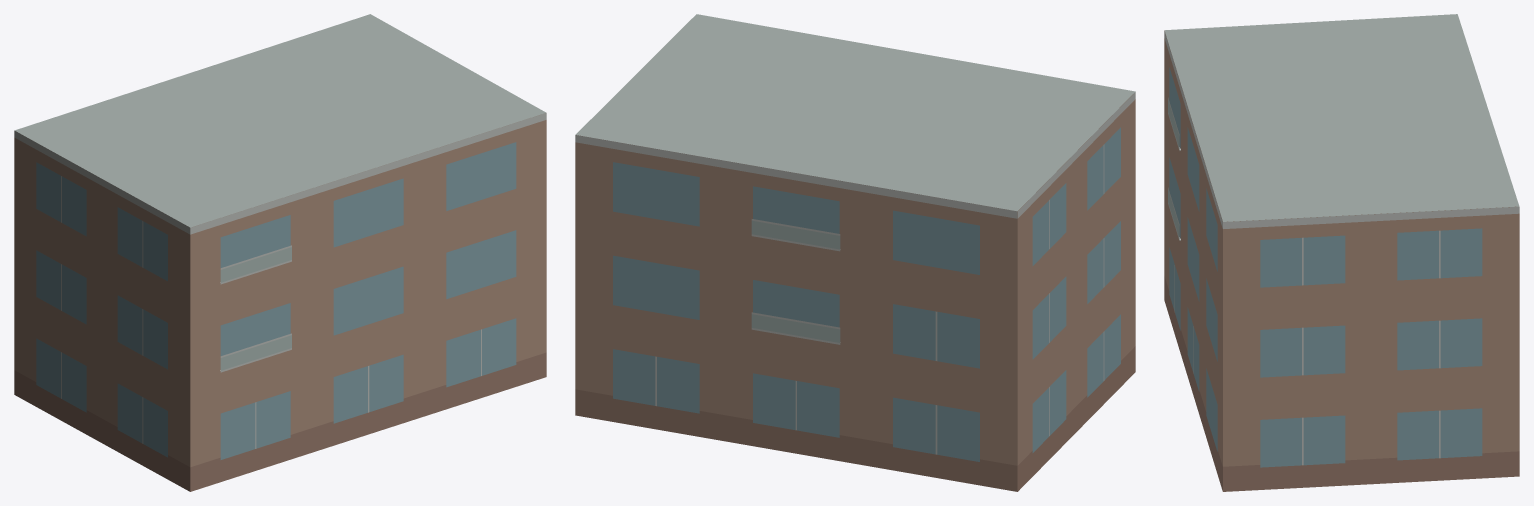
The model's file is survey-upis-32868054.glb.
The picture shows the model from 3 angles, left to right: view 1: azimuth 30°, elevation 25°; view 2: azimuth 150°, elevation 25°; view 3: azimuth 270°, elevation 25°; orthographic projection. The views are drawn at different scales.
Visible parts, largest first — view 1: survey-upis-32868054.tmp; view 2: survey-upis-32868054.tmp; view 3: survey-upis-32868054.tmp.
Boxes of the visible parts, x1,y1,x2,y2 form: survey-upis-32868054.tmp: (14,14,546,491); survey-upis-32868054.tmp: (575,14,1135,491); survey-upis-32868054.tmp: (1164,14,1519,491).
Size of the model in its own units: 15.13 by 9.15 by 10.92.
